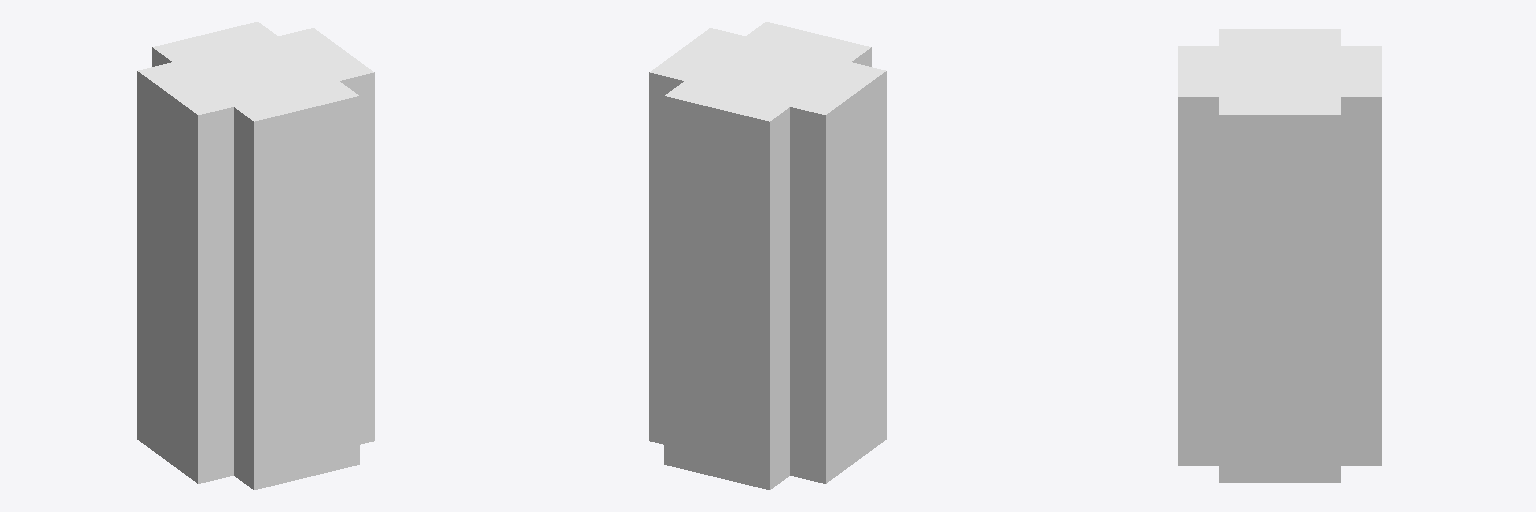
File: myCharacter-1.obj
3 views of the same model, side by side, from view 1: azimuth 30°, elevation 25°; view 2: azimuth 150°, elevation 25°; view 3: azimuth 270°, elevation 25° (orthographic).
Visible parts, largest first — view 1: object 1; view 2: object 1; view 3: object 1.
Part boxes in pixels (left/top/right/bottom): object 1: left=137, top=22, right=374, bottom=489; object 1: left=649, top=22, right=886, bottom=489; object 1: left=1178, top=29, right=1381, bottom=482.
Size of the model in its own units: 0.5 by 1 by 0.5.